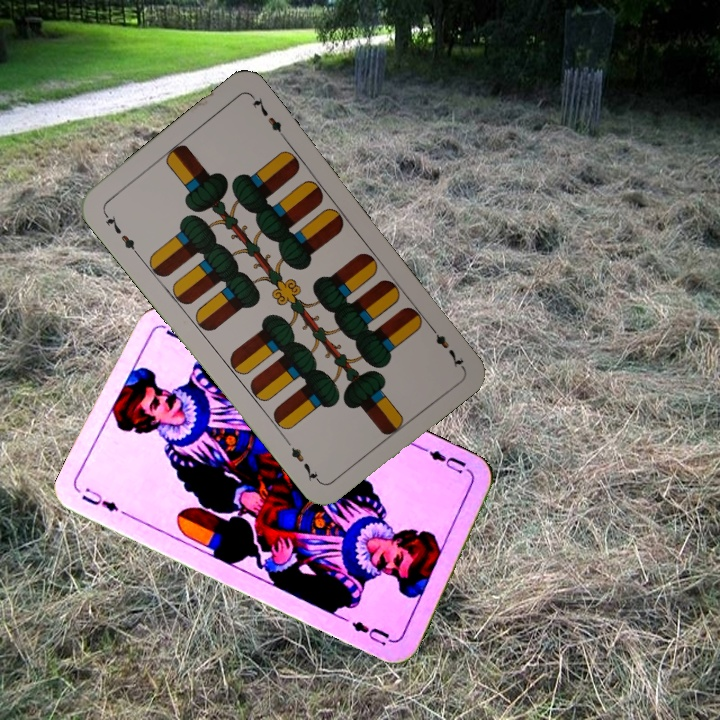E7: (99, 208, 142, 258), (424, 320, 466, 371)
EU: (418, 443, 474, 477), (77, 483, 122, 515)
